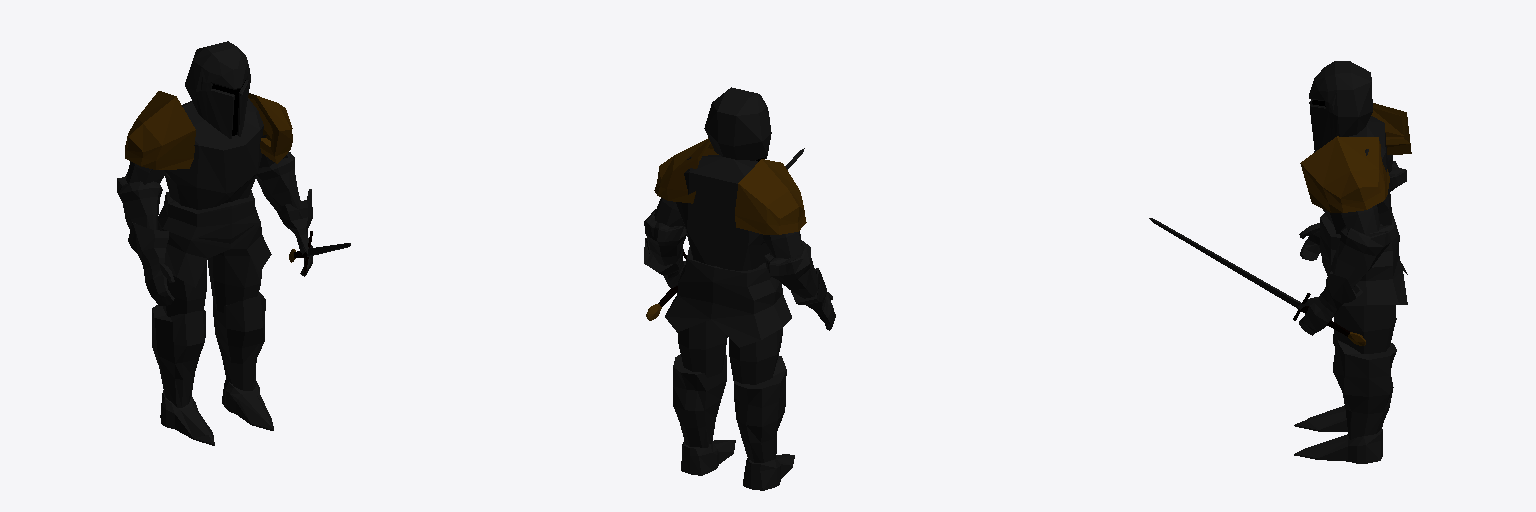
File: Knight_Base.obj
The picture shows the model from 3 angles: view 1: azimuth 30°, elevation 25°; view 2: azimuth 150°, elevation 25°; view 3: azimuth 270°, elevation 25°; orthographic projection.
Visible parts, largest first — view 1: Knight; view 2: Knight; view 3: Knight, Plane.
Part boxes in pixels (left/top/right/bottom): Knight: left=117, top=41, right=312, bottom=445; Knight: left=644, top=87, right=835, bottom=490; Knight: left=1294, top=61, right=1411, bottom=463; Plane: left=1149, top=218, right=1365, bottom=345.
Bounding box in the file's own units: 0.9823 × 1.96 × 1.25.